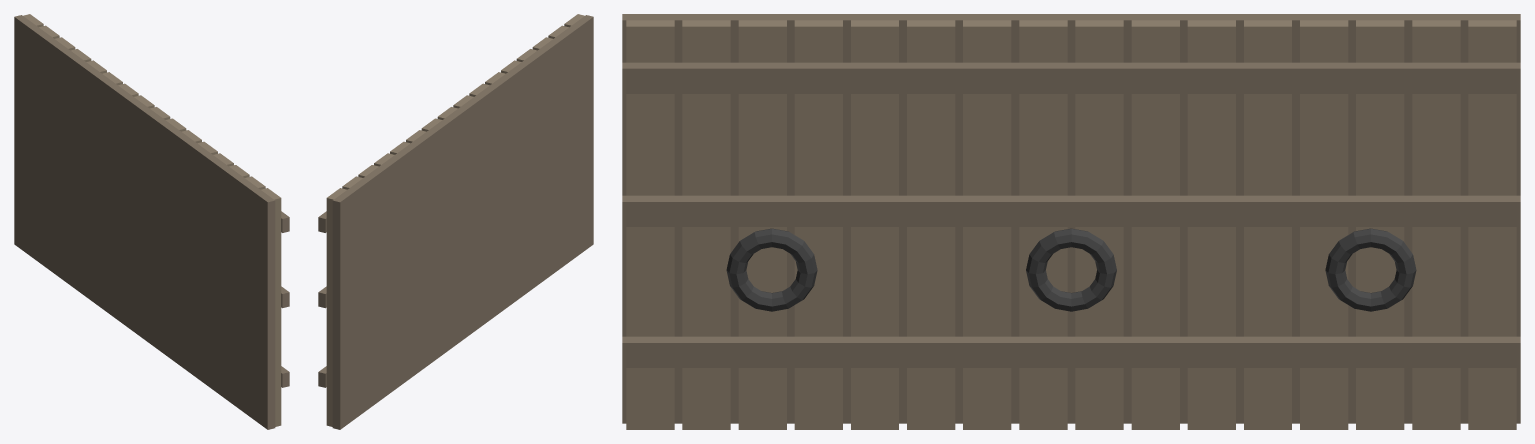
The model's file is dm_dockfenderhalf.glb.
The picture shows the model from 3 angles, left to right: view 1: azimuth 30°, elevation 25°; view 2: azimuth 150°, elevation 25°; view 3: azimuth 270°, elevation 25°; orthographic projection. The views are drawn at different scales.
Visible parts, largest first — view 1: dm_dockfenderhalf; view 2: dm_dockfenderhalf; view 3: dm_dockfenderhalf.
Part boxes in pixels (x1,y1,x2,y2): dm_dockfenderhalf: [14, 14, 289, 429]; dm_dockfenderhalf: [318, 14, 593, 429]; dm_dockfenderhalf: [622, 14, 1520, 429].
Bounding box in the file's own units: 0.55 × 4.82 × 9.73.
